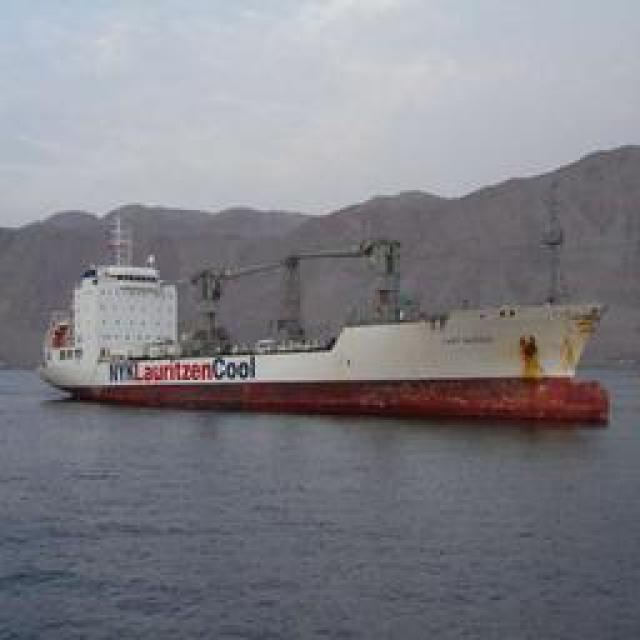Ship: (47, 227, 615, 417)
